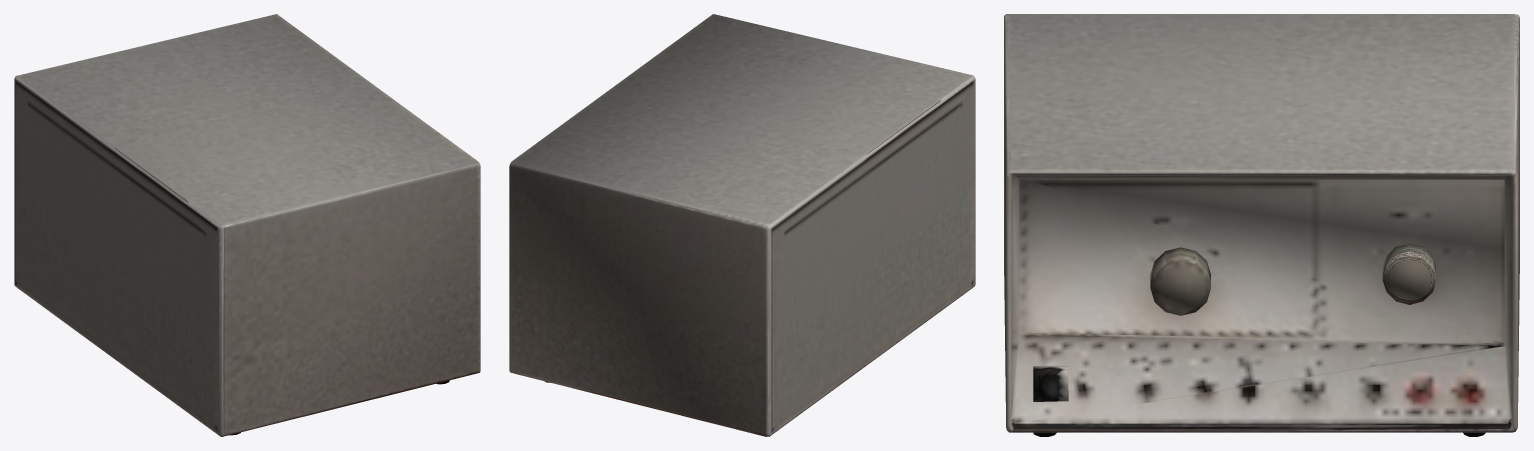
The picture shows the model from 3 angles, left to right: view 1: azimuth 30°, elevation 25°; view 2: azimuth 150°, elevation 25°; view 3: azimuth 270°, elevation 25°; orthographic projection. The views are drawn at different scales.
Visible parts, largest first — view 1: tripo_node_afd41c56; view 2: tripo_node_afd41c56; view 3: tripo_node_afd41c56.
Part boxes in pixels (left/top/right/bottom): tripo_node_afd41c56: left=14, top=14, right=480, bottom=436; tripo_node_afd41c56: left=509, top=14, right=975, bottom=436; tripo_node_afd41c56: left=1004, top=14, right=1519, bottom=436.
Size of the model in its own units: 75.98 by 59.18 by 99.8.
Materials: 1 (1 with a texture image).
